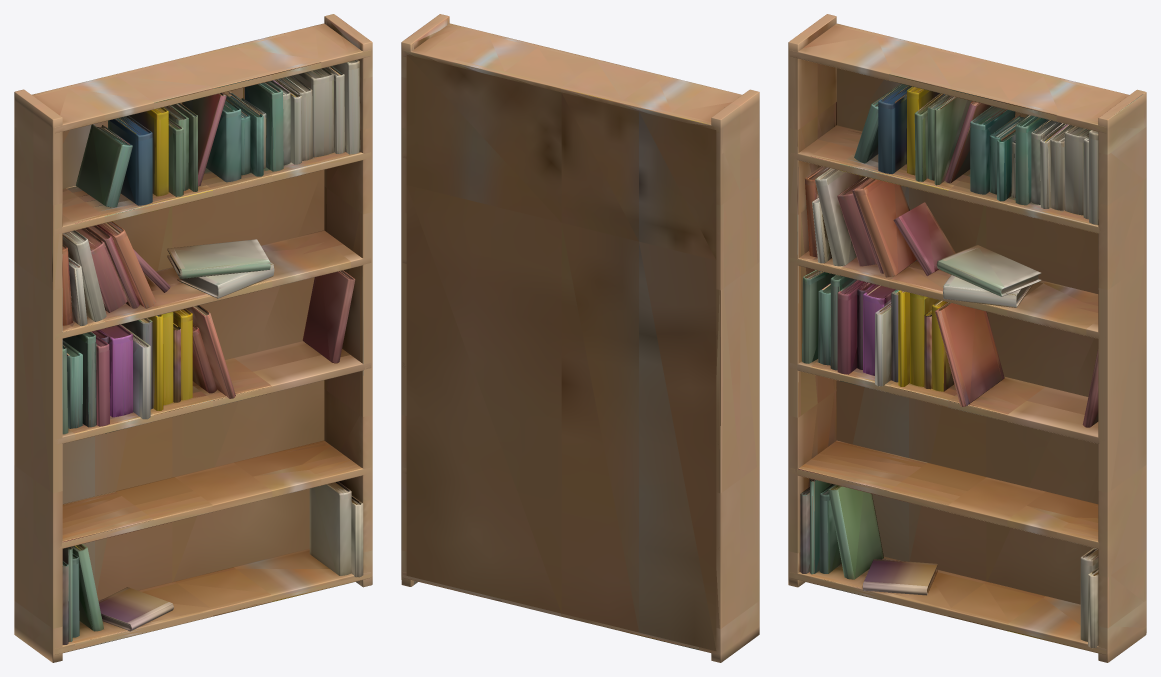
Rendered from shelf_3.glb.
3 renders of one model, left to right at view 1: azimuth 30°, elevation 25°; view 2: azimuth 150°, elevation 25°; view 3: azimuth 330°, elevation 25°, orthographic.
Parts seen in each view (by area): view 1: Mesh_0.001; view 2: Mesh_0.001; view 3: Mesh_0.001.
Boxes of the visible parts, left/top/right/bottom form: Mesh_0.001: left=14, top=14, right=372, bottom=662; Mesh_0.001: left=401, top=14, right=759, bottom=662; Mesh_0.001: left=788, top=14, right=1146, bottom=662.
Bounding box in the file's own units: 1.23 × 2 × 0.2991.
Materials: 1 (1 with a texture image).
